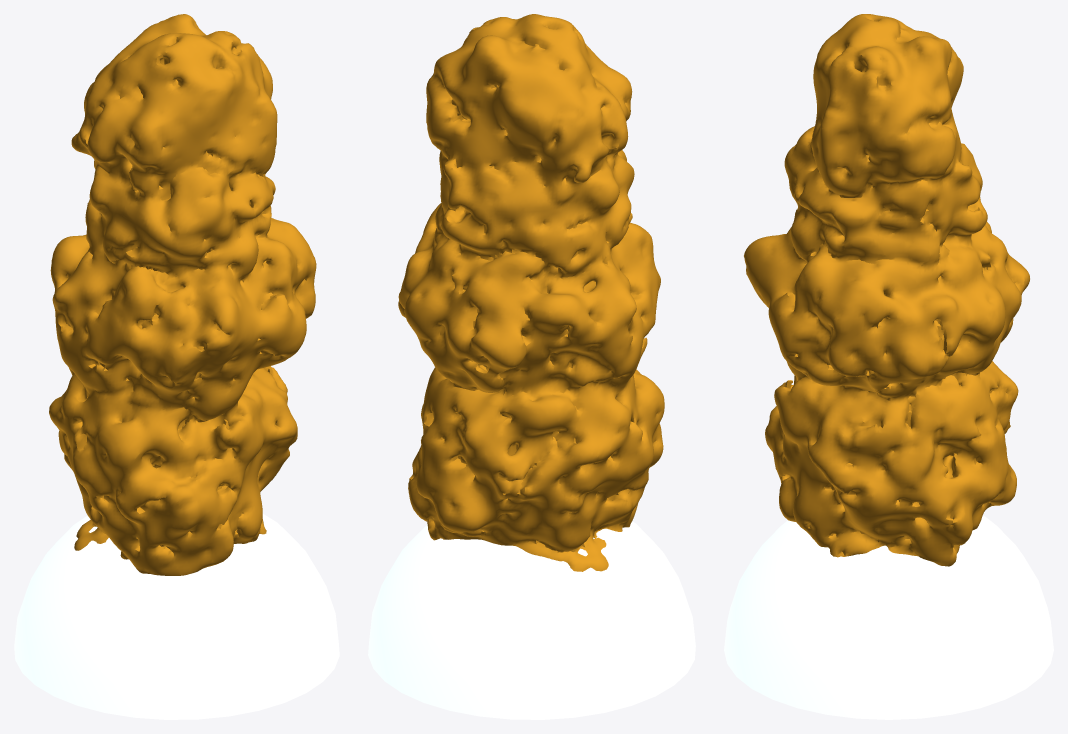
File: rocks.glb
The picture shows the model from 3 angles, left to right: view 1: azimuth 30°, elevation 25°; view 2: azimuth 150°, elevation 25°; view 3: azimuth 270°, elevation 25°; orthographic projection.
Visible parts, largest first — view 1: rocks; view 2: rocks; view 3: rocks.
Part boxes in pixels (x1,y1,x2,y2): rocks: (14, 14, 339, 719); rocks: (368, 14, 695, 719); rocks: (724, 14, 1053, 719).
Bounding box in the file's own units: 2.07 × 4.36 × 2.07.
